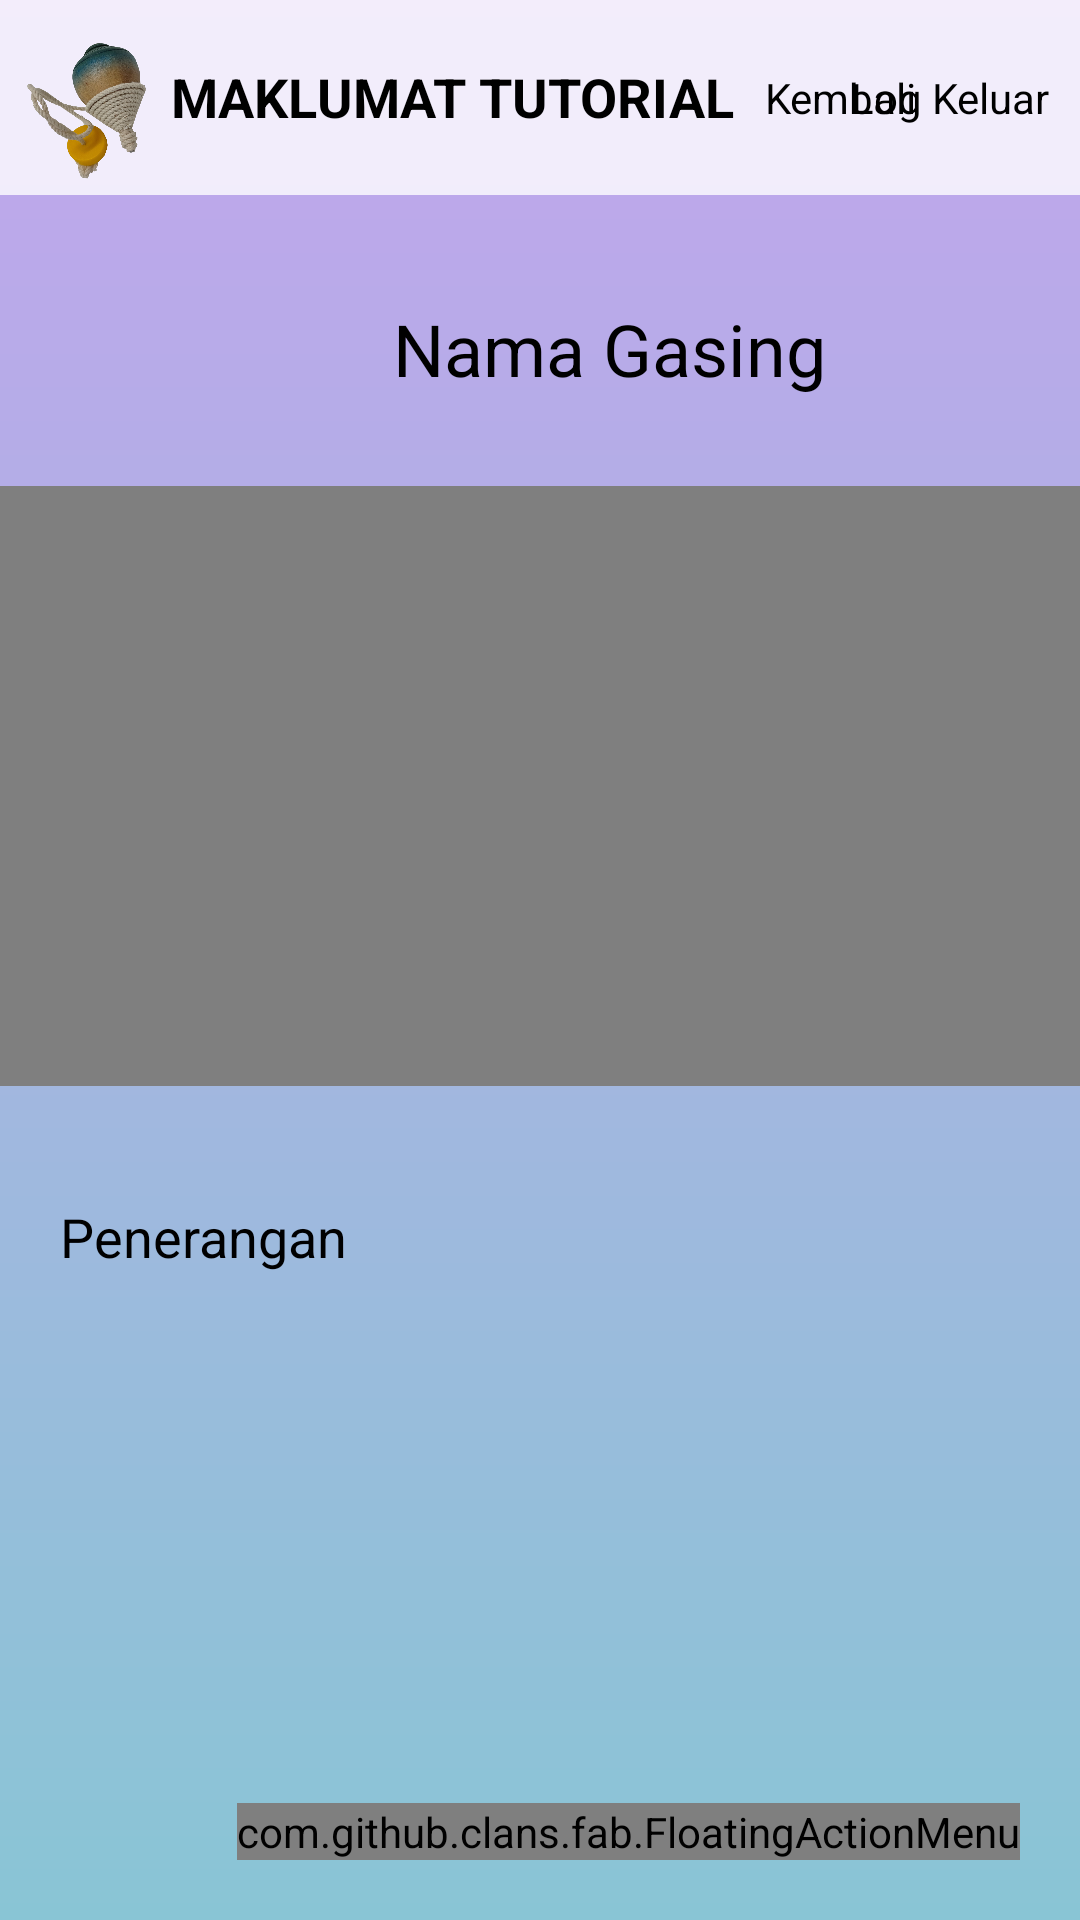

Where to tap for icons on this 1080w x 1920h app screen, as (x=x, y=y):
gasing: (x=86, y=110)
